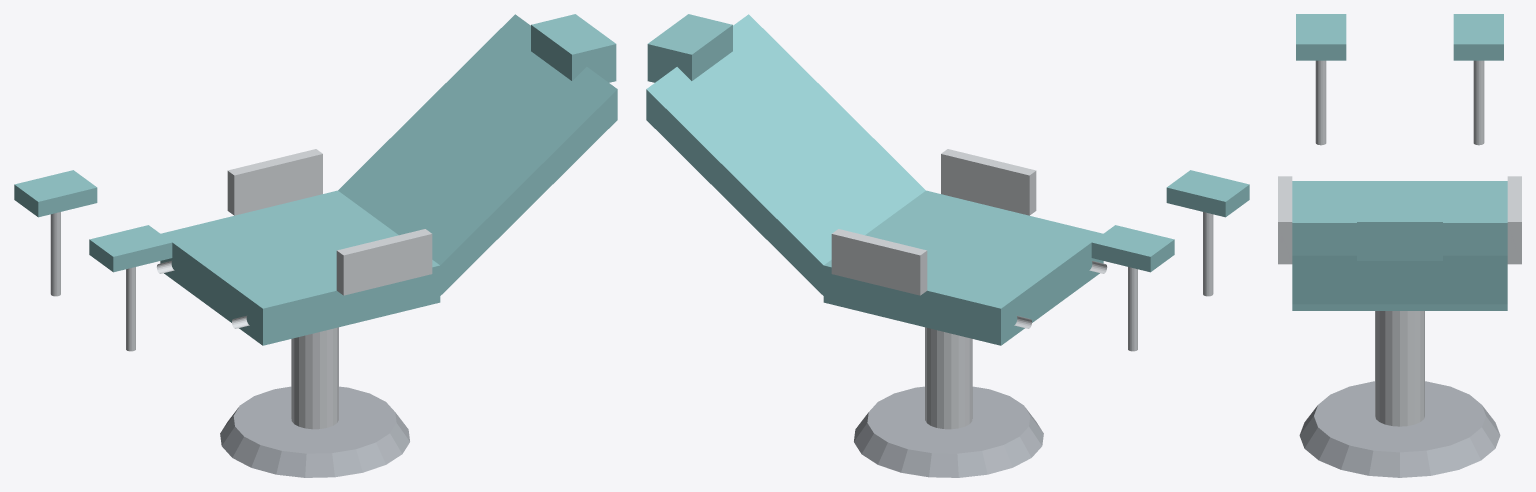
The model's file is kreslo-ginekologicheskoe.glb.
3 views of the same model, side by side, from view 1: azimuth 30°, elevation 25°; view 2: azimuth 150°, elevation 25°; view 3: azimuth 270°, elevation 25° (orthographic). The views are drawn at different scales.
Bounding box in the file's own units: 1.8 × 1.1 × 0.68.
